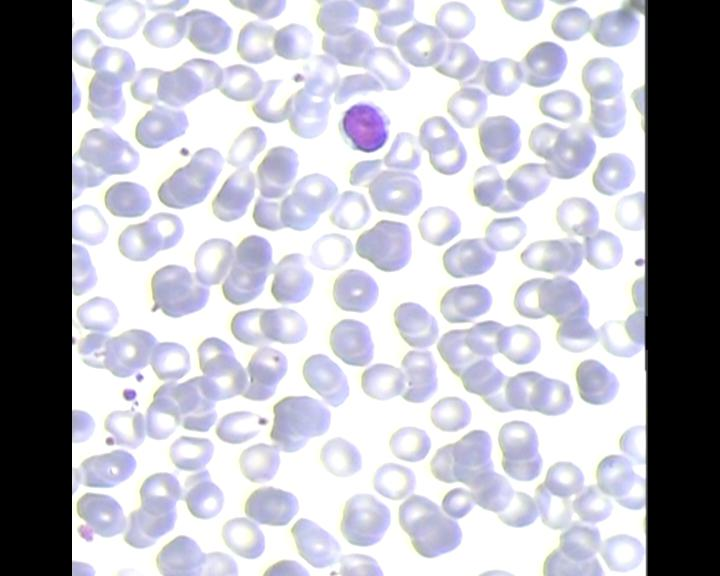lymp: (336, 98, 394, 158)
